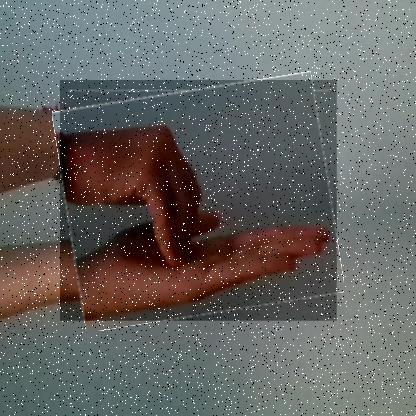Z: (60, 80, 338, 322)
